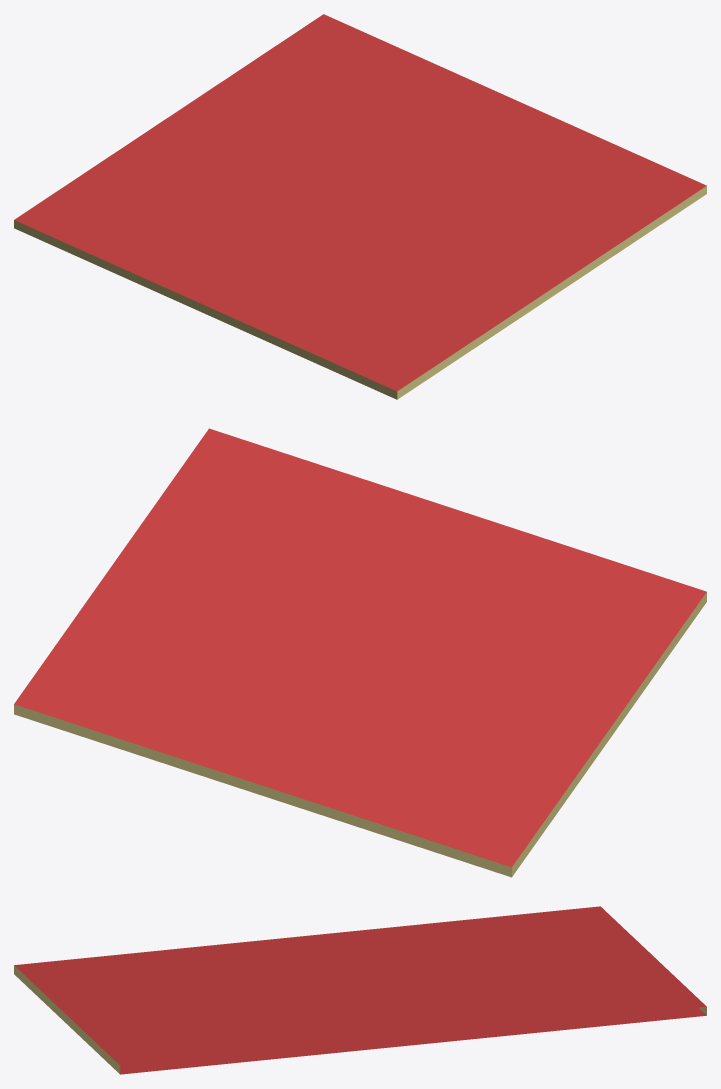
The picture shows the model from 3 angles, top to bottom: view 1: azimuth 30°, elevation 25°; view 2: azimuth 150°, elevation 25°; view 3: azimuth 270°, elevation 25°; orthographic projection. The views are drawn at different scales.
Bounding box in the file's own units: 5.9 × 6.97 × 1.08.
